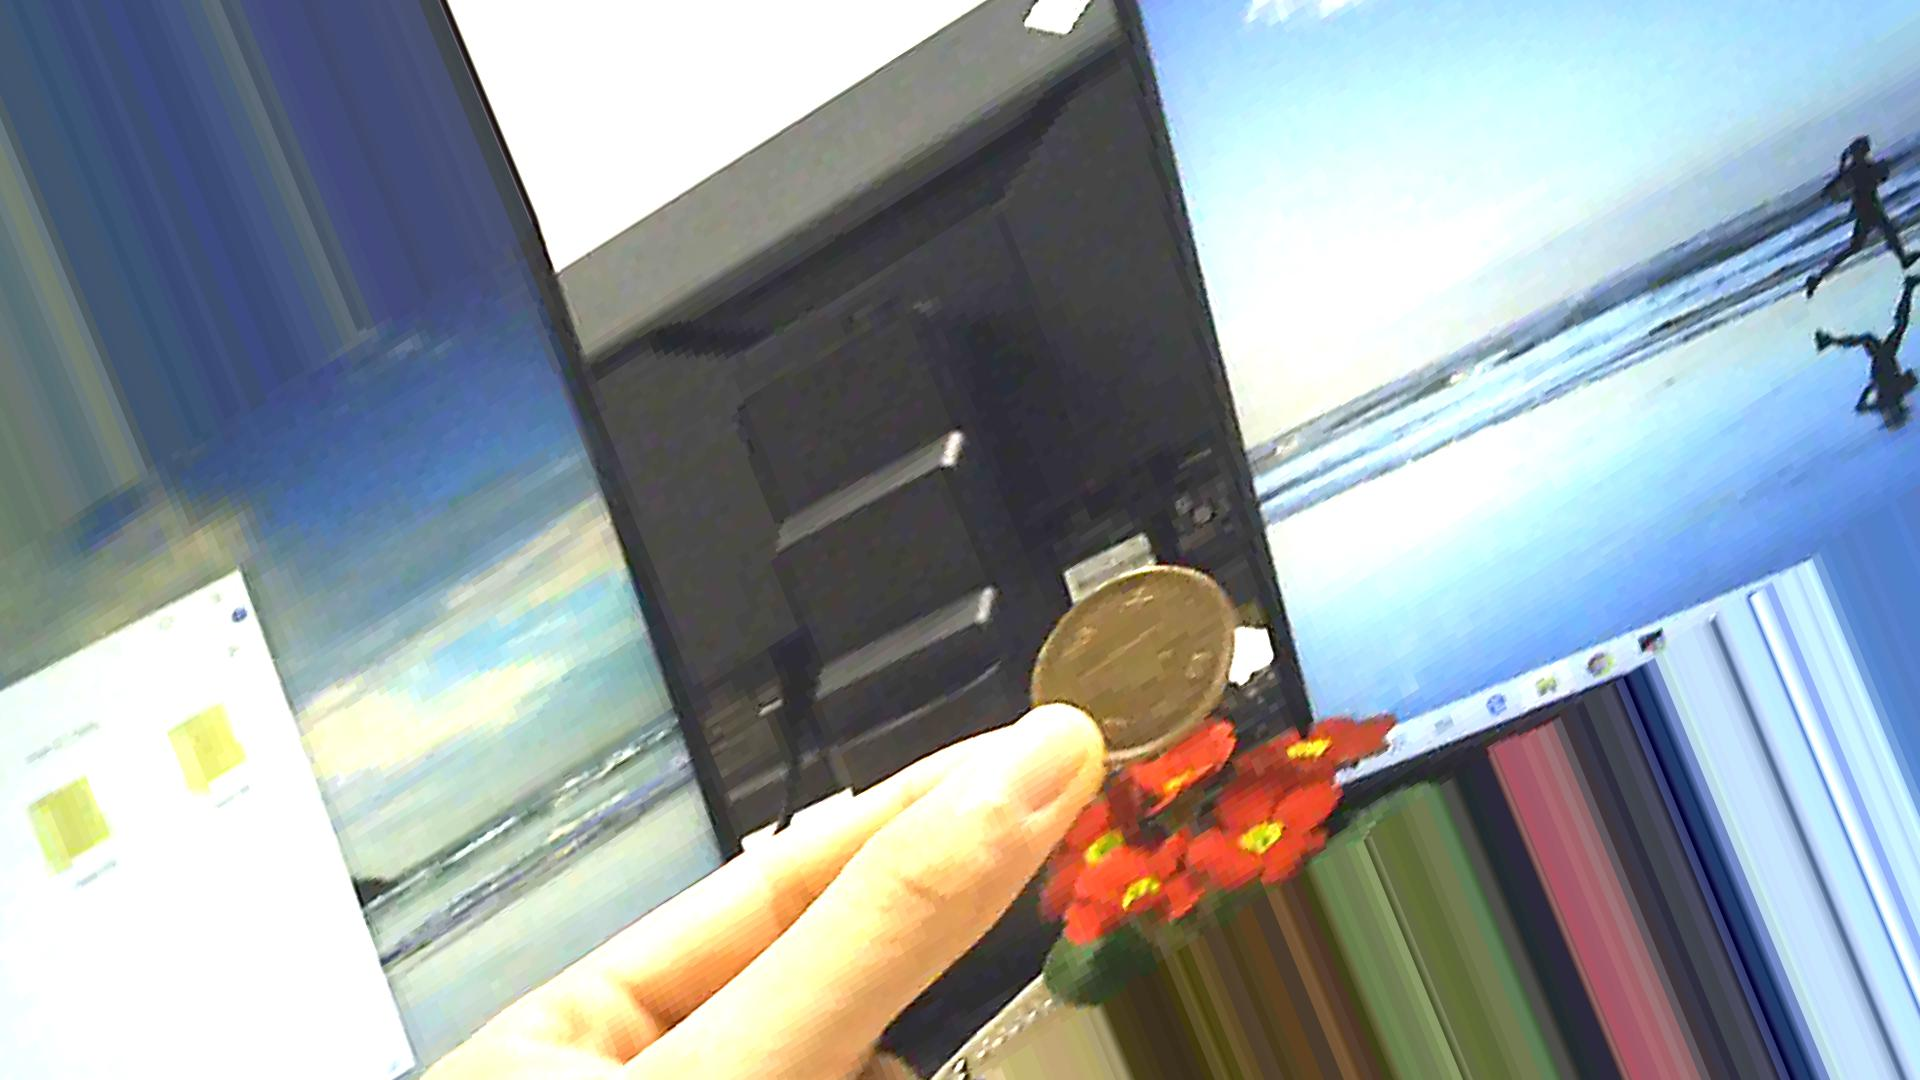10 Yen: (1007, 556, 1237, 781)
